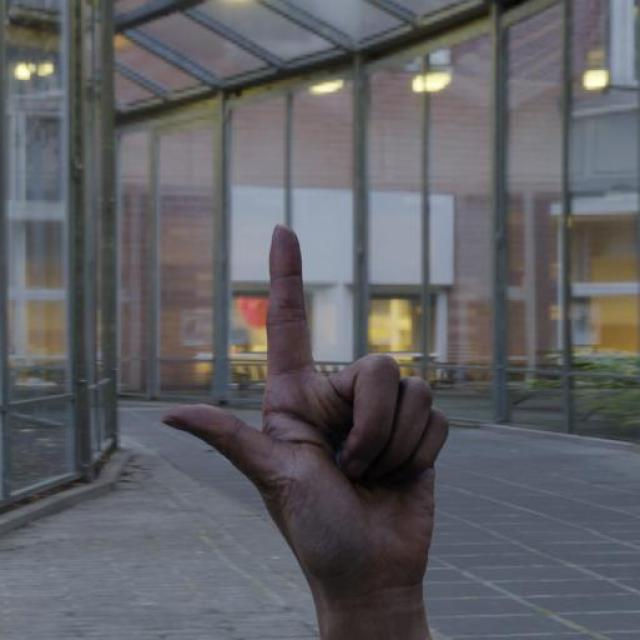L: (150, 213, 488, 621)
